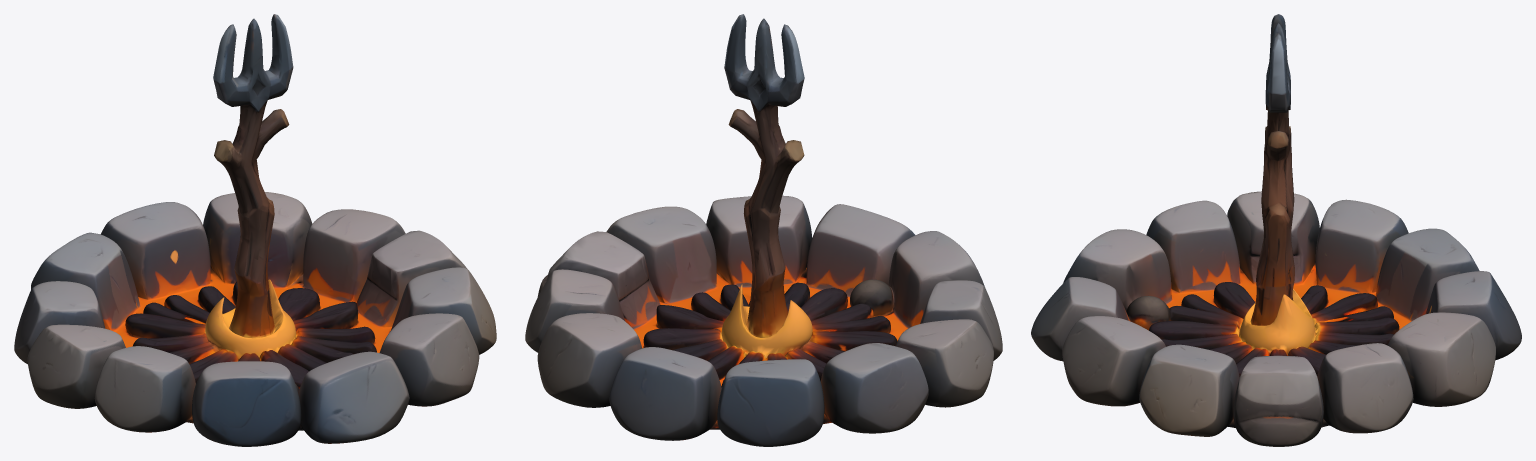
File: goblinfire.glb
3 renders of one model, left to right at view 1: azimuth 30°, elevation 25°; view 2: azimuth 150°, elevation 25°; view 3: azimuth 270°, elevation 25°, orthographic. The views are drawn at different scales.
Visible parts, largest first — view 1: node_0; view 2: node_0; view 3: node_0.
Boxes of the visible parts, <box> form: node_0: <box>14,14,496,446</box>; node_0: <box>525,14,1002,446</box>; node_0: <box>1031,14,1521,446</box>.
Bounding box in the file's own units: 0.9804 × 0.711 × 0.9801.
1 material, 1 textured.
